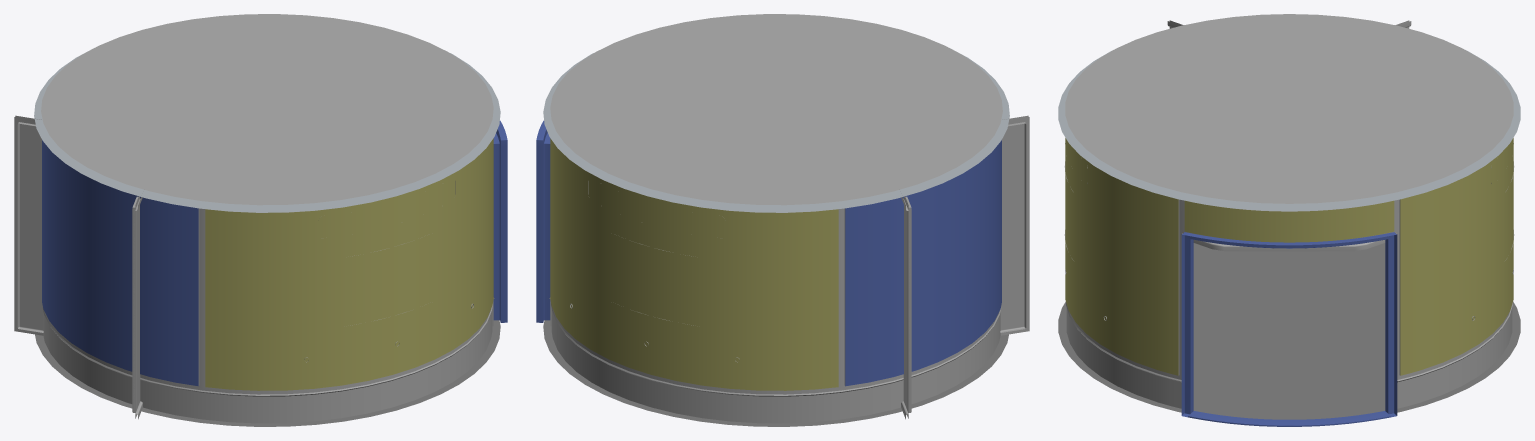
File: Elevator.fbx
3 renders of one model, left to right at view 1: azimuth 30°, elevation 25°; view 2: azimuth 150°, elevation 25°; view 3: azimuth 270°, elevation 25°, orthographic.
Visible parts, largest first — view 1: WallsElevator, CellingUp, BodyEye, Celling, Floor; view 2: WallsElevator, CellingUp, BodyEye, Celling, Floor; view 3: CellingUp, WallsElevator, Floor, Celling, BodyEye.
Part boxes in pixels (<box>): WallsElevator: <box>42,120,507,423</box>; CellingUp: <box>41,14,493,205</box>; BodyEye: <box>14,115,142,419</box>; Celling: <box>34,50,500,212</box>; Floor: <box>35,320,500,426</box>; WallsElevator: <box>536,120,1001,423</box>; CellingUp: <box>550,14,1002,205</box>; BodyEye: <box>901,115,1029,419</box>; Celling: <box>543,50,1009,212</box>; Floor: <box>543,320,1008,426</box>; CellingUp: <box>1065,14,1513,203</box>; WallsElevator: <box>1065,138,1513,426</box>; Floor: <box>1058,243,1520,419</box>; Celling: <box>1058,50,1520,211</box>; BodyEye: <box>1167,20,1411,251</box>.
Bounding box in the file's own units: 681 × 350 × 670.
